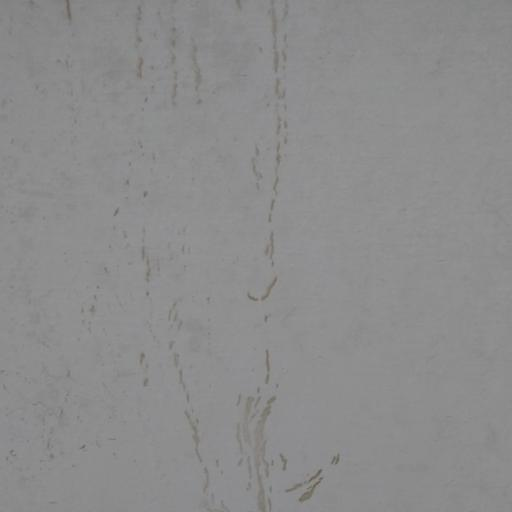stain: (104, 13, 343, 512)
